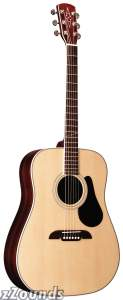guitar: (5, 2, 119, 297)
